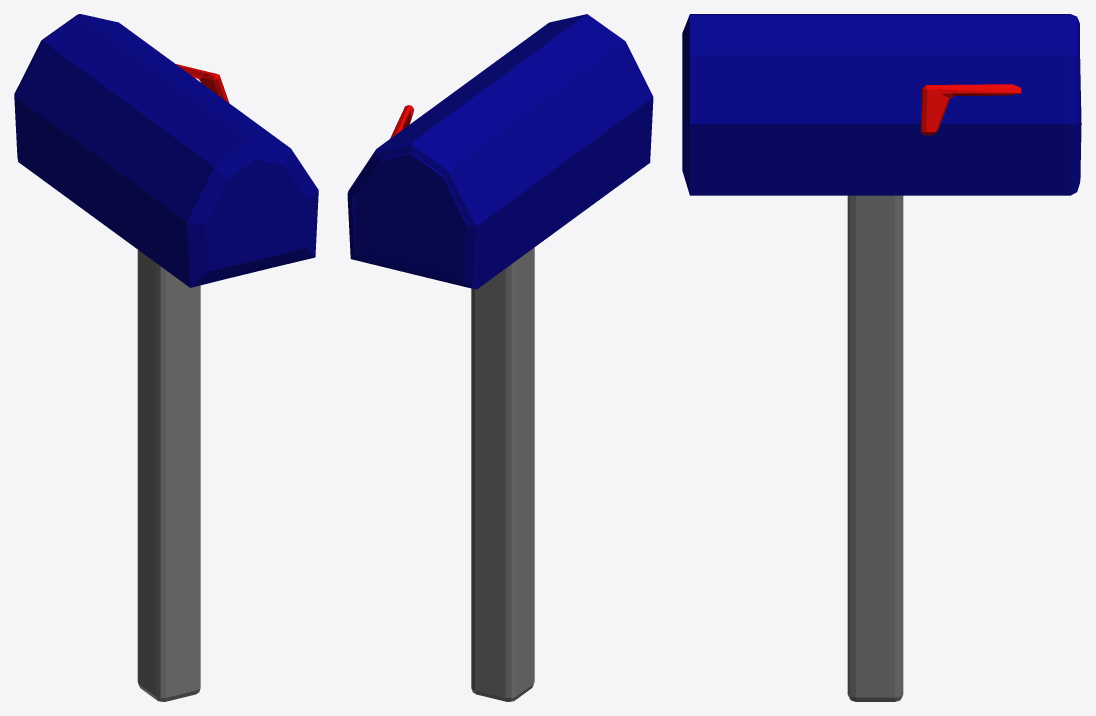
File: MailboxClosedAsset.fbx
3 views of the same model, side by side, from view 1: azimuth 30°, elevation 25°; view 2: azimuth 150°, elevation 25°; view 3: azimuth 270°, elevation 25° (orthographic). The views are drawn at different scales.
Visible parts, largest first — view 1: MailboxClosed; view 2: MailboxClosed; view 3: MailboxClosed.
Boxes of the visible parts, x1,y1,x2,y2 form: MailboxClosed: [14, 14, 318, 701]; MailboxClosed: [347, 14, 653, 701]; MailboxClosed: [682, 14, 1081, 701].
Size of the model in its own units: 0.5547 by 2.17 by 1.15.
